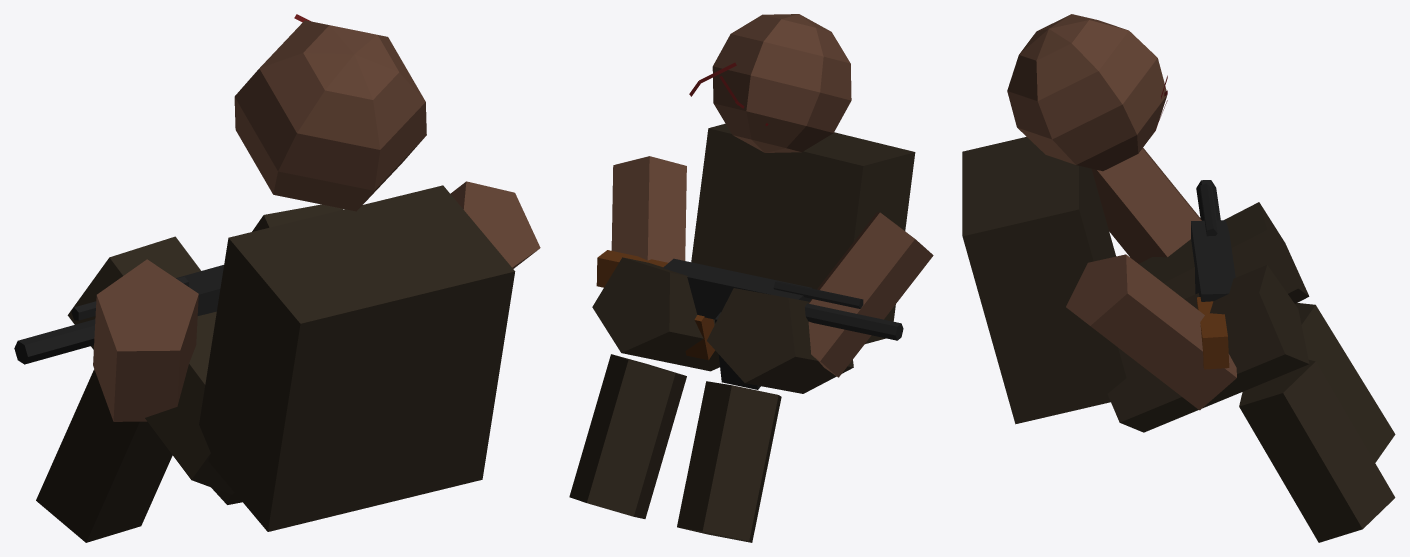
Rendered from character-mode-a.glb.
3 views of the same model, side by side, from view 1: azimuth 30°, elevation 25°; view 2: azimuth 150°, elevation 25°; view 3: azimuth 270°, elevation 25° (orthographic). The views are drawn at different scales.
Visible parts, largest first — view 1: torso, head, arm_l, lower_leg_l, upper_leg_l, arm_r, gun_barrel, gun_body, upper_leg_r; view 2: torso, head, lower_leg_r, lower_leg_l, arm_l, upper_leg_l, upper_leg_r, arm_r, gun_body, gun_barrel, gun_gas_tube, gun_stock (+2 smaller); view 3: torso, head, lower_leg_r, arm_r, upper_leg_r, arm_l, upper_leg_l, lower_leg_l, gun_body, gun_stock, gun_gas_tube.
Boxes of the visible parts, left/top/right/bottom form: torso: left=199, top=185, right=515, bottom=531; head: left=234, top=20, right=426, bottom=211; arm_l: left=93, top=259, right=198, bottom=421; lower_leg_l: left=36, top=369, right=172, bottom=542; upper_leg_l: left=67, top=236, right=234, bottom=494; arm_r: left=450, top=181, right=540, bottom=268; gun_barrel: left=14, top=319, right=95, bottom=364; gun_body: left=176, top=265, right=223, bottom=315; upper_leg_r: left=252, top=204, right=343, bottom=231; torso: left=691, top=123, right=915, bottom=343; head: left=712, top=14, right=851, bottom=152; lower_leg_r: left=569, top=354, right=686, bottom=518; lower_leg_l: left=677, top=381, right=781, bottom=542; arm_l: left=808, top=212, right=933, bottom=377; upper_leg_l: left=707, top=288, right=853, bottom=393; upper_leg_r: left=592, top=257, right=719, bottom=371; arm_r: left=611, top=156, right=686, bottom=262; gun_body: left=663, top=258, right=812, bottom=319; gun_barrel: left=805, top=303, right=903, bottom=340; gun_gas_tube: left=773, top=281, right=863, bottom=308; gun_stock: left=596, top=250, right=667, bottom=287; torso: left=962, top=137, right=1126, bottom=424; head: left=1007, top=14, right=1167, bottom=171; lower_leg_r: left=1239, top=360, right=1395, bottom=542; arm_r: left=1066, top=254, right=1236, bottom=410; upper_leg_r: left=1107, top=265, right=1309, bottom=432; arm_l: left=1091, top=148, right=1201, bottom=263; upper_leg_l: left=1139, top=202, right=1309, bottom=303; lower_leg_l: left=1295, top=303, right=1395, bottom=462; gun_body: left=1191, top=220, right=1235, bottom=301; gun_stock: left=1197, top=297, right=1229, bottom=369; gun_gas_tube: left=1200, top=183, right=1217, bottom=236.
Bounding box in the file's own units: 0.6265 × 0.7968 × 0.6475.
